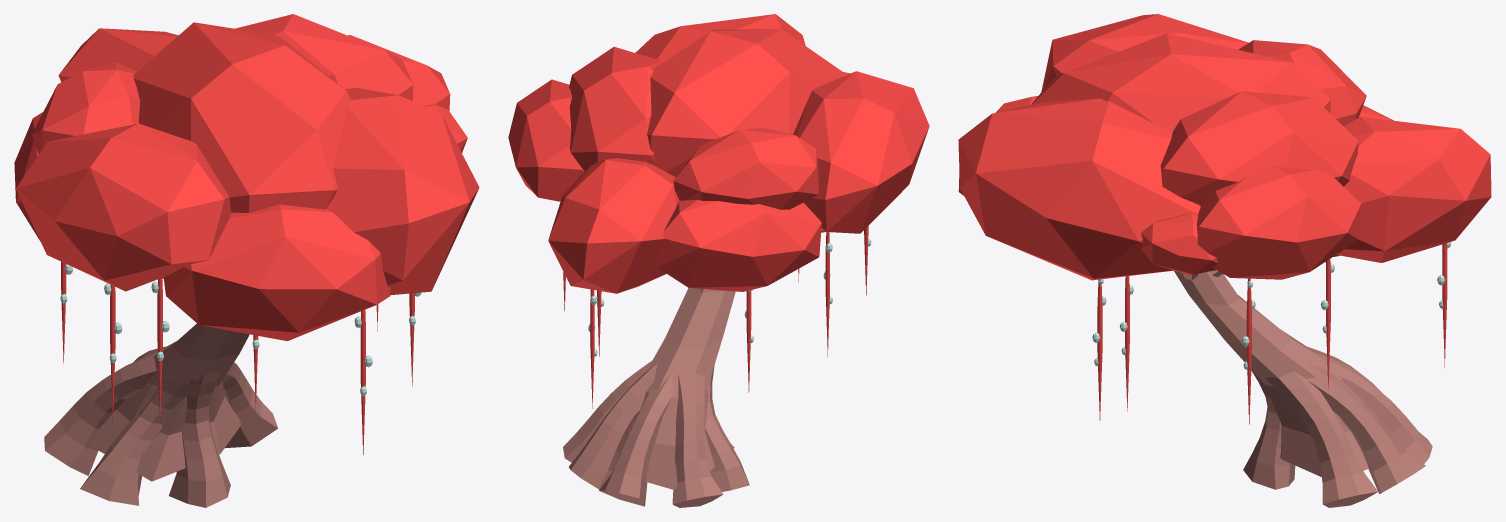
File: ARBOL MAIN.fbx
The picture shows the model from 3 angles, left to right: view 1: azimuth 30°, elevation 25°; view 2: azimuth 150°, elevation 25°; view 3: azimuth 270°, elevation 25°; orthographic projection. The views are drawn at different scales.
Parts seen in each view (by area): view 1: Cube.006, Cube.010, TRONCO, Cube.011, Cube.012, Cube.015, Cube.016, Cube.009, Cube.013, Cube.008, Cylinder.004, Cylinder.008 (+2 smaller); view 2: TRONCO, Cube.006, Cube.010, Cube.009, Cube.008, Cube.016, Cube.015, Cube.013, Cube.012, Cylinder.002, Cylinder.009; view 3: Cube.012, TRONCO, Cube.009, Cube.013, Cube.015, Cube.006, Cube.010, Cube.016, Cube.014, Cylinder.005, Cylinder.004, Cylinder.007 (+2 smaller).
Part boxes in pixels (x1,y1,x2,y2): Cube.006: [133, 22, 351, 212]; Cube.010: [16, 123, 230, 291]; TRONCO: [44, 277, 277, 507]; Cube.011: [163, 204, 390, 341]; Cube.012: [326, 88, 479, 295]; Cube.015: [235, 14, 413, 100]; Cube.016: [31, 62, 139, 154]; Cube.009: [58, 28, 178, 81]; Cube.013: [348, 35, 450, 110]; Cube.008: [14, 112, 42, 241]; Cylinder.004: [354, 310, 372, 454]; Cylinder.008: [151, 278, 169, 422]; TRONCO: [563, 231, 825, 507]; Cube.006: [647, 29, 846, 176]; Cube.010: [793, 71, 929, 233]; Cube.009: [548, 158, 679, 293]; Cube.008: [657, 200, 821, 291]; Cube.016: [673, 127, 819, 209]; Cube.015: [569, 46, 662, 171]; Cube.013: [508, 79, 583, 201]; Cube.012: [635, 14, 805, 62]; Cylinder.002: [823, 232, 832, 356]; Cylinder.009: [588, 289, 597, 408]; Cube.012: [958, 98, 1200, 280]; TRONCO: [1174, 255, 1432, 507]; Cube.009: [1336, 116, 1491, 262]; Cube.013: [1196, 165, 1361, 279]; Cube.015: [1160, 91, 1358, 206]; Cube.006: [1031, 33, 1330, 131]; Cube.010: [1041, 14, 1248, 91]; Cube.016: [1238, 40, 1366, 124]; Cube.014: [1141, 213, 1218, 275]; Cylinder.005: [1241, 278, 1255, 424]; Cylinder.004: [1092, 279, 1106, 420]; Cylinder.007: [1119, 275, 1133, 411].
Size of the model in its own units: 555 by 592 by 654.
